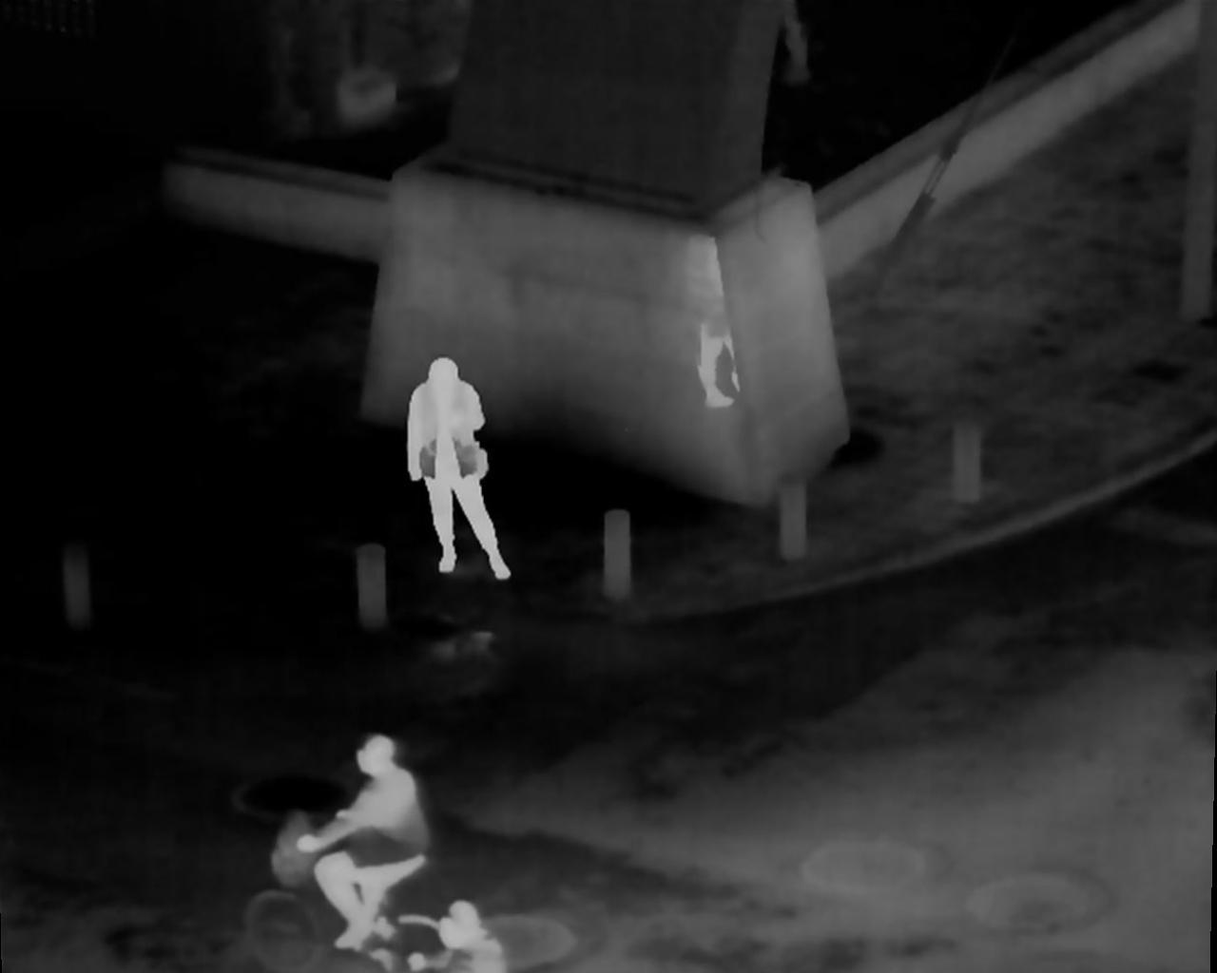person: (405, 355, 512, 582), (329, 735, 426, 962), (419, 908, 515, 966)
